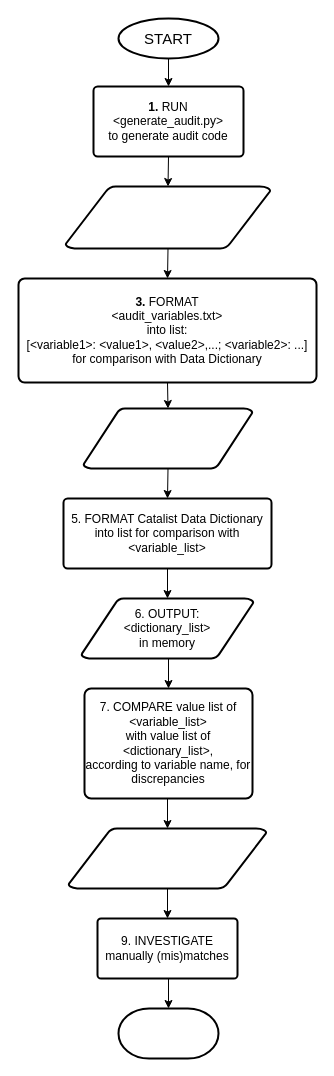
Image size: 334x1076. Some labels were removed from this diagram. The shapes that lost their labels are listed below. From the top down, each one's centre as x and y in pixels, then its label:
At pixel 167 217: "2. OUTPUT: <audit_variables.txt> file".
At pixel 167 438: "4. OUTPUT: <variable_list> in memory".
At pixel 167 858: "8. OUTPUT: <audit_match.xlsx> file".
At pixel 168 1033: "END".
